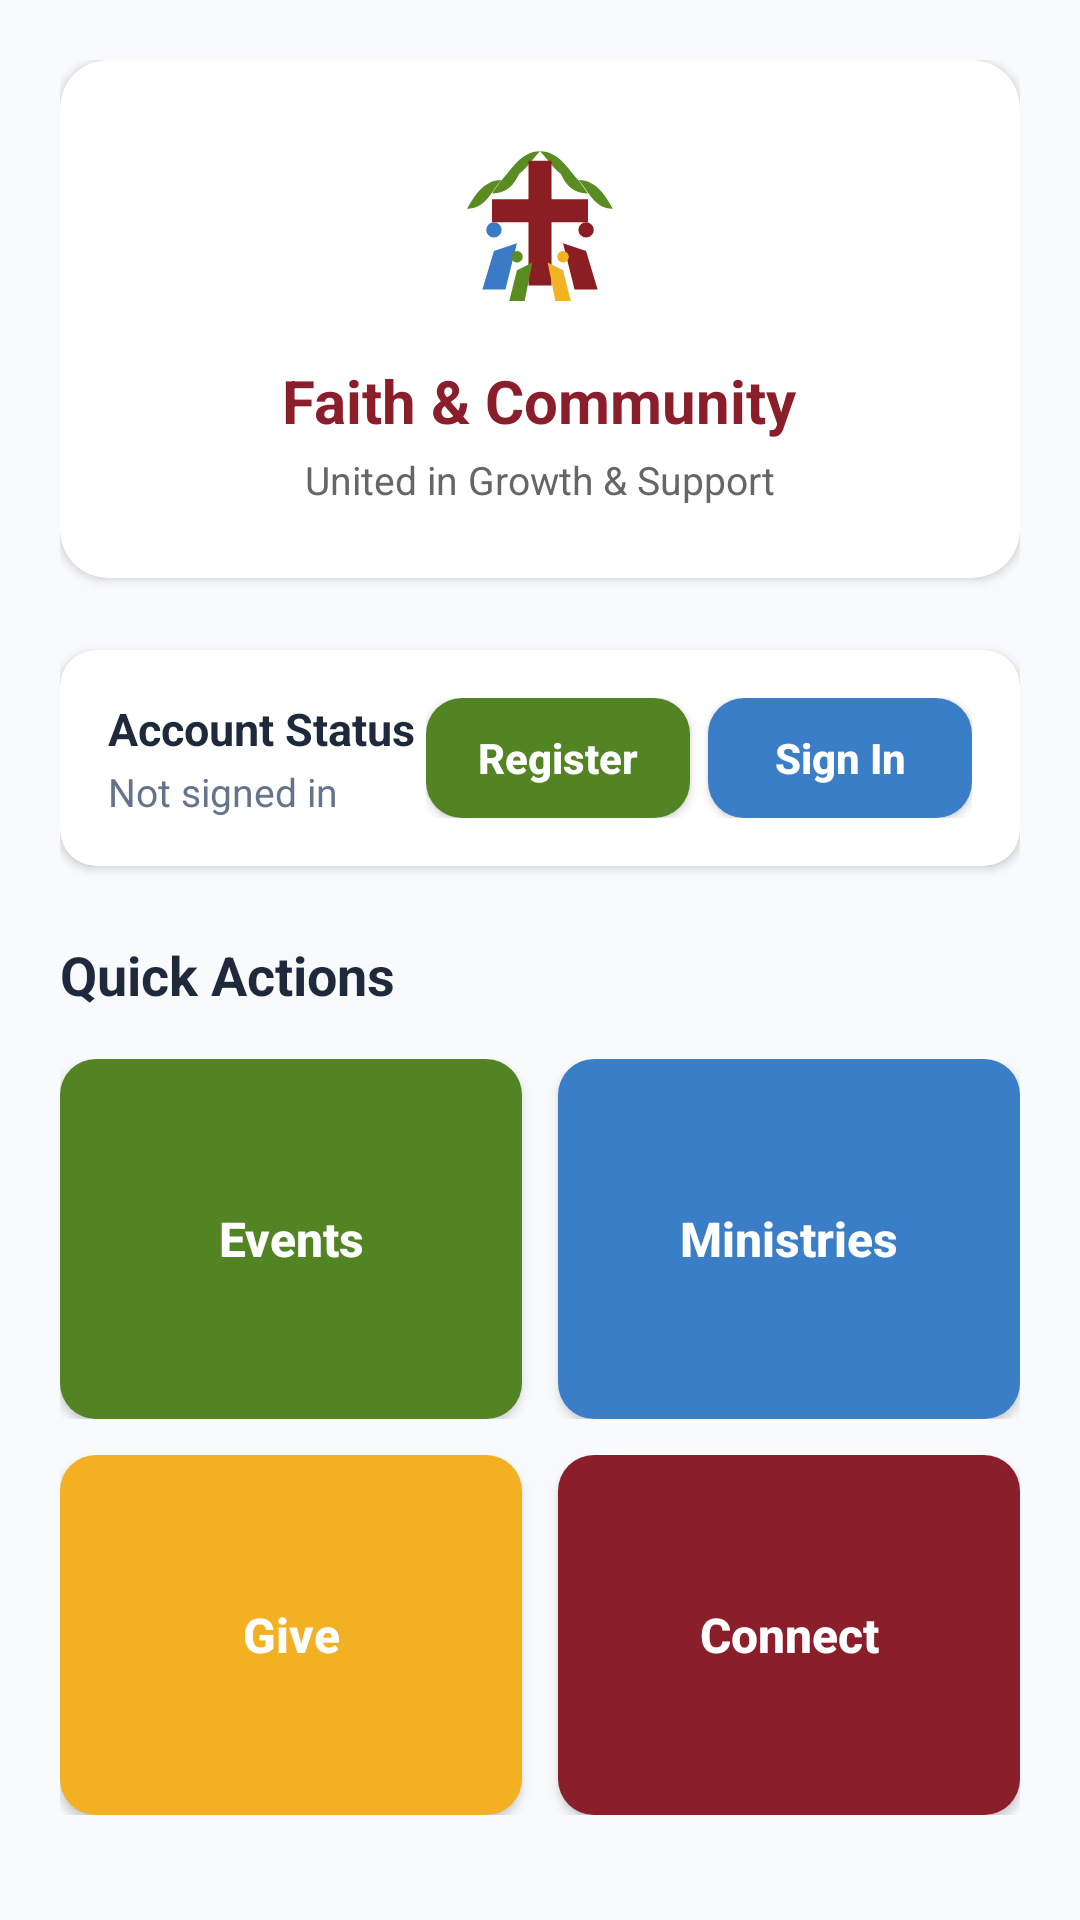

Locate icon controls on the screen. Image size 1080*1920, boxes as bbox(x1, y1, x2, y2).
community cross: bbox(467, 151, 613, 301)
